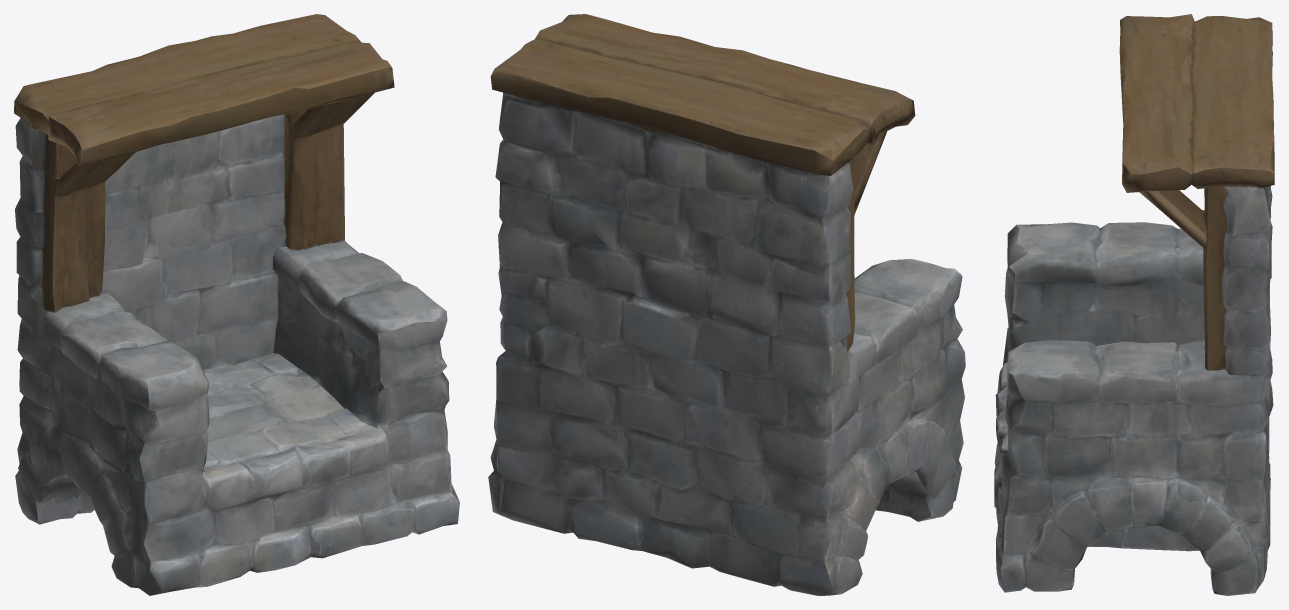
The model's file is SM_Farm_Stove.fbx.
3 views of the same model, side by side, from view 1: azimuth 30°, elevation 25°; view 2: azimuth 150°, elevation 25°; view 3: azimuth 270°, elevation 25° (orthographic). The views are drawn at different scales.
Parts seen in each view (by area): view 1: SM_Farm_Stove_LOD0; view 2: SM_Farm_Stove_LOD0; view 3: SM_Farm_Stove_LOD0.
Part boxes in pixels (x1,y1,x2,y2): SM_Farm_Stove_LOD0: [14, 14, 459, 595]; SM_Farm_Stove_LOD0: [488, 14, 965, 595]; SM_Farm_Stove_LOD0: [994, 14, 1274, 595].
Bounding box in the file's own units: 158 × 194 × 114.
